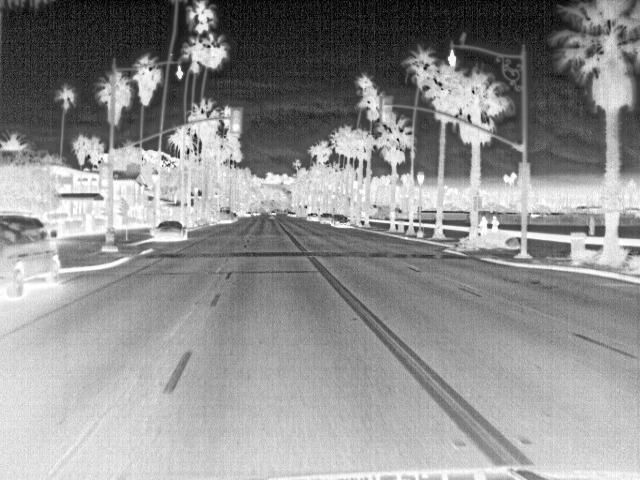car: (2, 209, 62, 299), (154, 221, 188, 241), (332, 213, 354, 227), (217, 209, 234, 223), (320, 214, 336, 226), (306, 211, 322, 222)
person: (479, 213, 494, 234), (489, 212, 501, 237)
